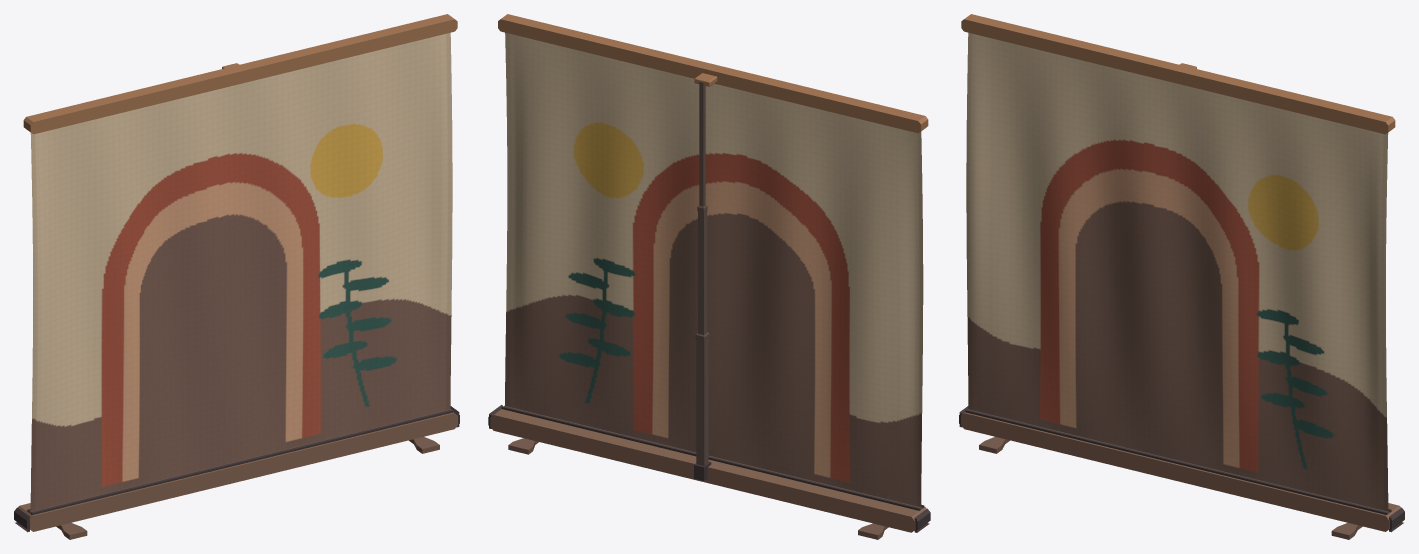
The picture shows the model from 3 angles, left to right: view 1: azimuth 30°, elevation 25°; view 2: azimuth 150°, elevation 25°; view 3: azimuth 330°, elevation 25°; orthographic projection.
Visible parts, largest first — view 1: fabric-sheet, lift-rail, roller-case, roller-mouth, roller-drum; view 2: fabric-sheet, roller-case, lift-rail, lift-mast, roller-mouth, roller-drum; view 3: fabric-sheet, lift-rail, roller-case, roller-mouth, roller-drum.
Boxes of the visible parts, <box> form: fabric-sheet: <box>30,32,452,511</box>; lift-rail: <box>23,14,457,134</box>; roller-case: <box>18,412,457,531</box>; roller-mouth: <box>27,409,453,514</box>; roller-drum: <box>29,409,451,513</box>; fabric-sheet: <box>505,32,923,507</box>; roller-case: <box>490,409,926,532</box>; lift-rail: <box>498,14,928,133</box>; lift-mast: <box>695,81,709,465</box>; roller-mouth: <box>501,406,924,510</box>; roller-drum: <box>504,405,922,509</box>; fabric-sheet: <box>966,32,1388,511</box>; lift-rail: <box>961,14,1395,134</box>; roller-case: <box>961,412,1400,531</box>; roller-mouth: <box>965,409,1391,514</box>; roller-drum: <box>967,409,1389,513</box>.
Size of the model in its own units: 2.09 by 1.92 by 0.286.
Materials: 6 (1 with a texture image).
